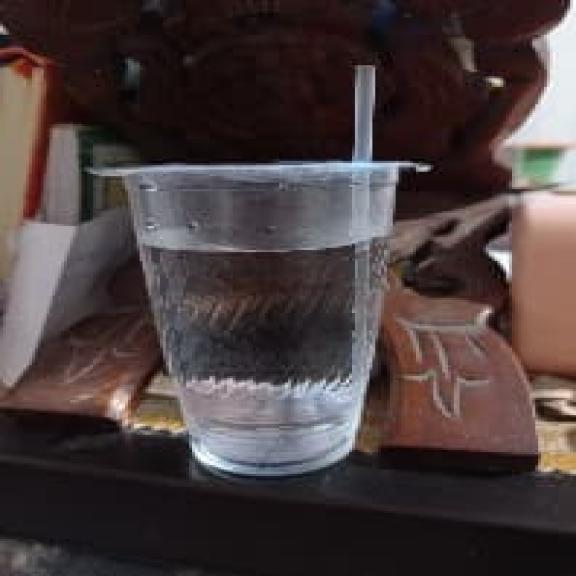Plastik: (102, 67, 417, 476)
